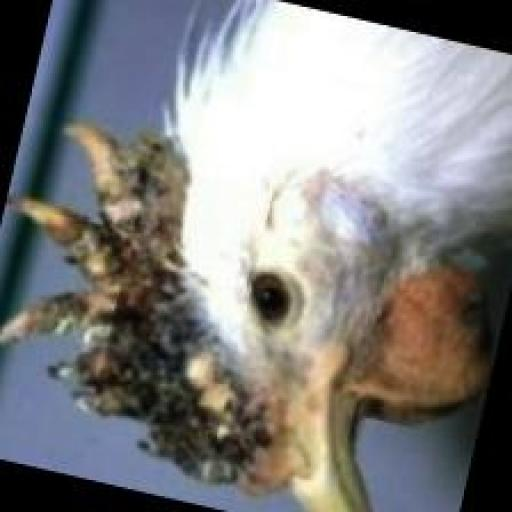disease: (3, 84, 315, 506)
